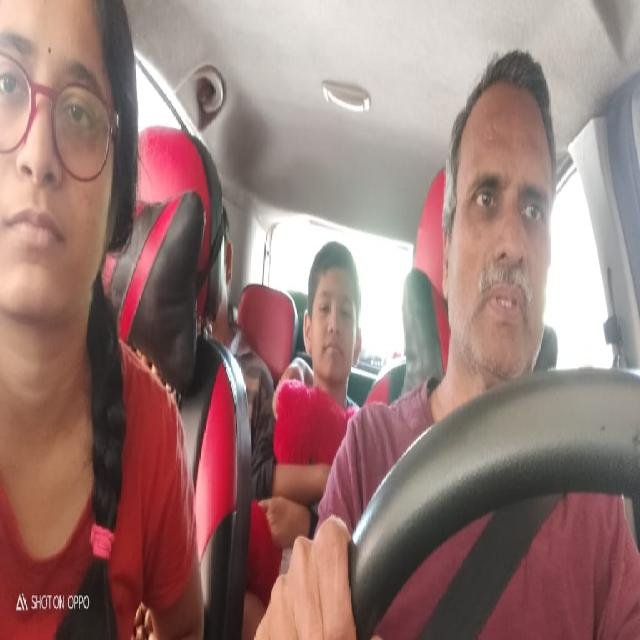person: (0, 0, 152, 377), (437, 55, 577, 383), (302, 245, 366, 392)
